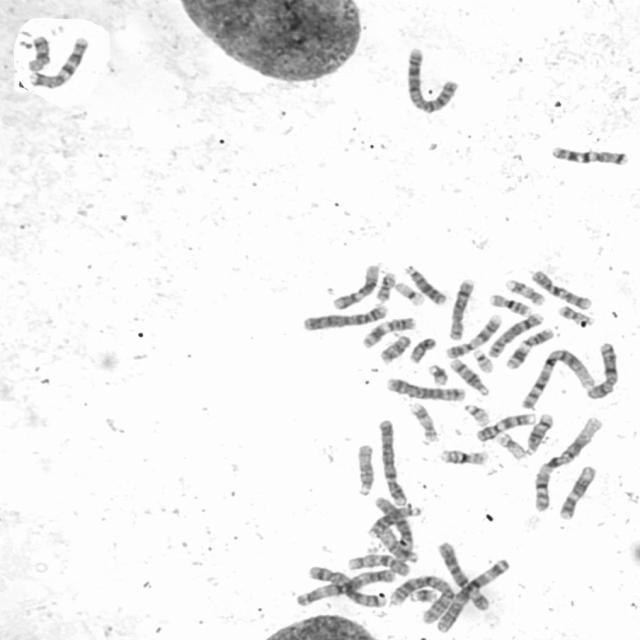A1: (530, 412, 605, 513), (517, 343, 599, 411)
A2: (402, 43, 462, 115), (386, 572, 456, 626)
A3: (434, 555, 513, 633), (296, 562, 395, 608)
B4: (375, 416, 409, 506), (300, 300, 390, 332)
B5: (306, 566, 391, 611), (383, 374, 467, 402)
C10: (527, 266, 594, 311), (345, 550, 412, 577)
C11: (502, 324, 556, 370), (359, 312, 418, 350)
C12: (328, 260, 381, 310), (556, 462, 599, 520)
C6: (434, 537, 492, 613), (374, 494, 419, 564)
C7: (27, 33, 92, 90), (548, 141, 631, 167)
C8: (486, 308, 545, 358), (445, 274, 477, 342)
C9: (442, 310, 502, 359), (472, 410, 537, 442)
D13: (401, 260, 449, 306), (367, 503, 423, 539)
D14: (446, 356, 491, 397), (523, 409, 556, 455)
D15: (374, 525, 420, 563), (353, 440, 377, 498)
E16: (486, 290, 534, 317), (436, 445, 490, 466)
E17: (406, 398, 441, 444), (502, 276, 546, 306)
E18: (376, 330, 413, 364), (24, 32, 52, 72)
F19: (494, 429, 528, 460), (391, 278, 427, 307)
F20: (555, 302, 596, 326), (373, 268, 398, 302)
G21: (424, 360, 450, 386), (406, 589, 441, 605)
G22: (460, 399, 492, 426), (470, 345, 496, 374)
X: (583, 339, 620, 400)
Y: (406, 333, 439, 364)
